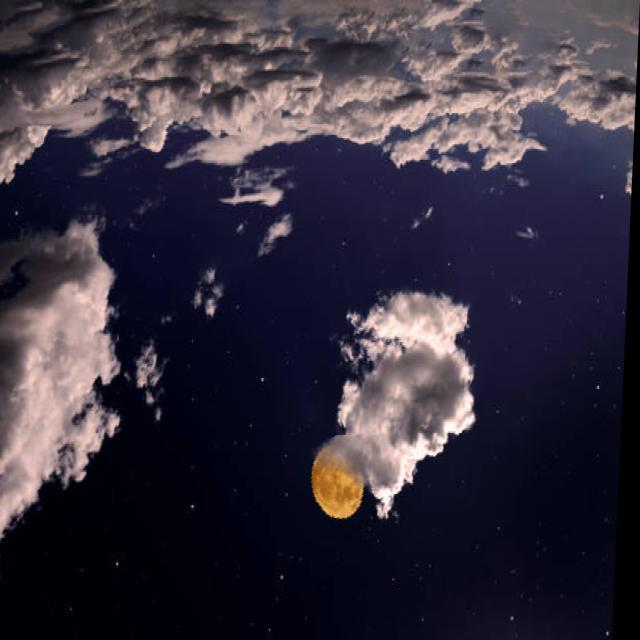moon: (302, 435, 382, 538)
